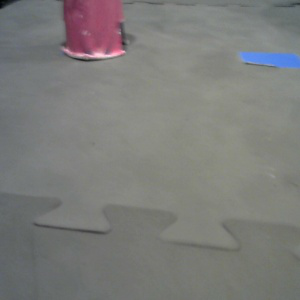middle: (59, 1, 130, 60)
